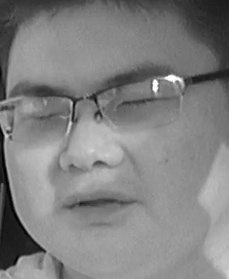blink: (115, 93, 157, 111)
glass: (89, 74, 182, 129), (2, 92, 75, 146)
mouth: (60, 186, 137, 224)
